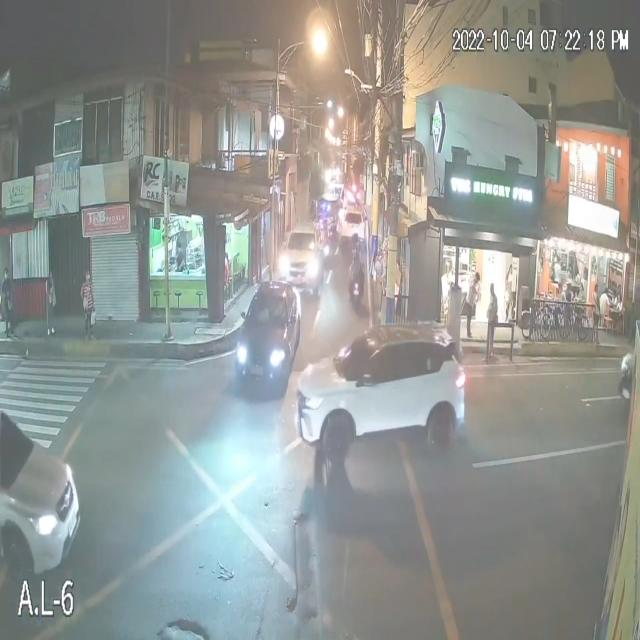Full-Faced: (350, 232, 361, 252)
